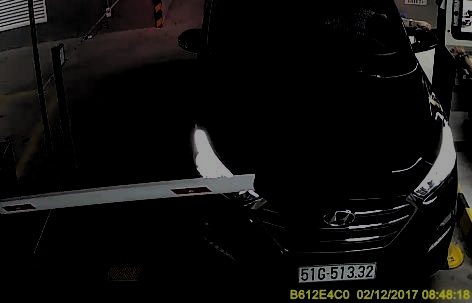plate: (295, 258, 381, 281)
